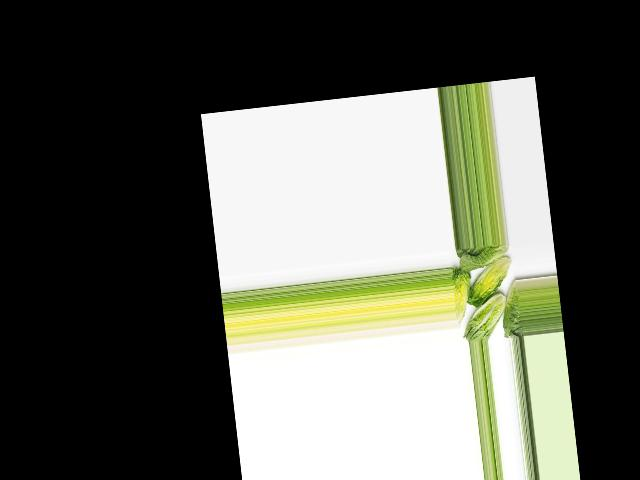lettuce: (455, 243, 509, 274)
